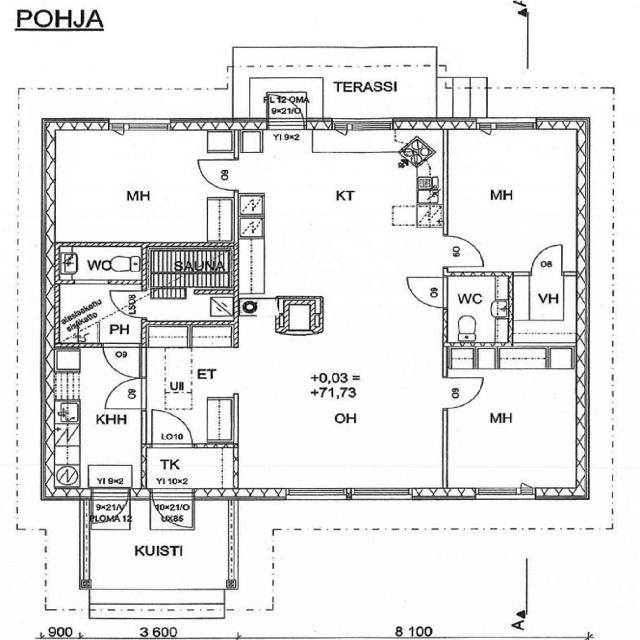door: (144, 406, 197, 447), (190, 154, 242, 194), (148, 491, 194, 531), (98, 341, 144, 379), (440, 232, 489, 267), (98, 375, 146, 409), (403, 273, 448, 309), (90, 488, 130, 527), (444, 372, 486, 409), (265, 98, 308, 131), (526, 241, 567, 275), (109, 289, 146, 320)
window: (107, 114, 173, 138), (346, 485, 416, 505), (281, 486, 350, 504), (331, 116, 396, 135), (469, 485, 534, 503), (484, 116, 538, 136)
zone: (235, 130, 429, 293), (45, 125, 237, 246), (443, 346, 587, 498), (442, 125, 582, 270), (145, 334, 234, 446), (52, 283, 144, 344), (141, 443, 240, 497), (510, 270, 579, 347), (444, 272, 513, 348), (134, 292, 238, 341), (150, 243, 232, 296), (52, 241, 148, 286), (4, 0, 106, 30), (442, 79, 492, 119)
